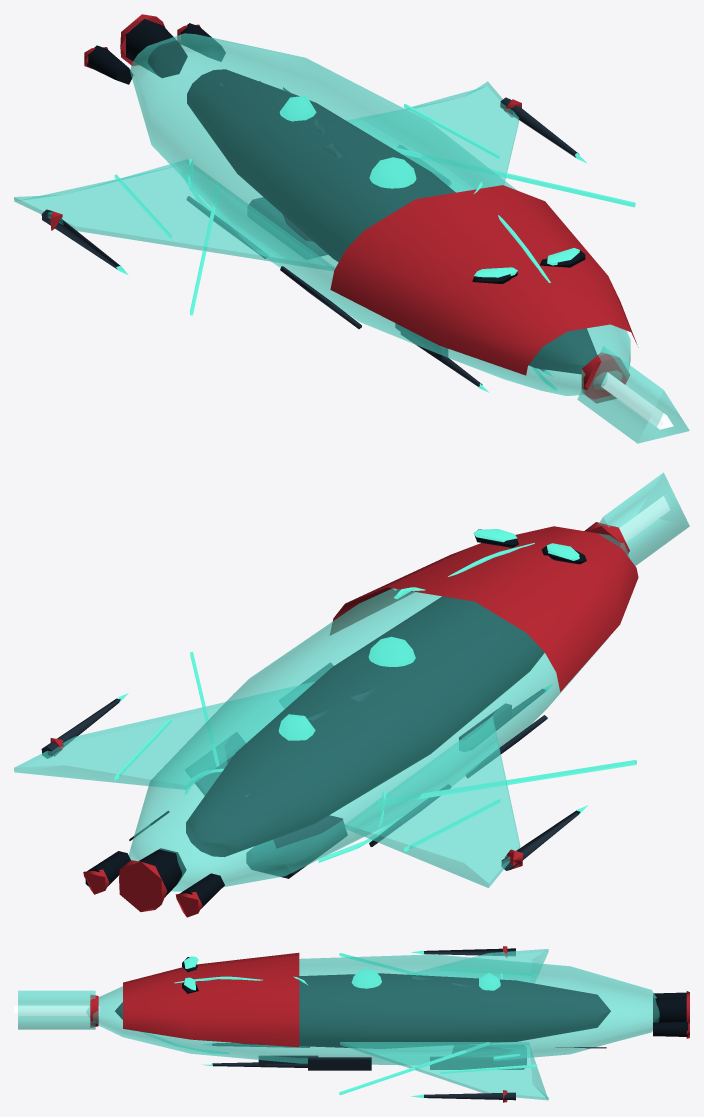
Rendered from refleks-swietlisci-hawk-5-lod1.glb.
3 views of the same model, one above another, from view 1: azimuth 30°, elevation 25°; view 2: azimuth 150°, elevation 25°; view 3: azimuth 270°, elevation 25° (orthographic). The views are drawn at different scales.
Bounding box in the file's own units: 8.92 × 2.73 × 17.11.
